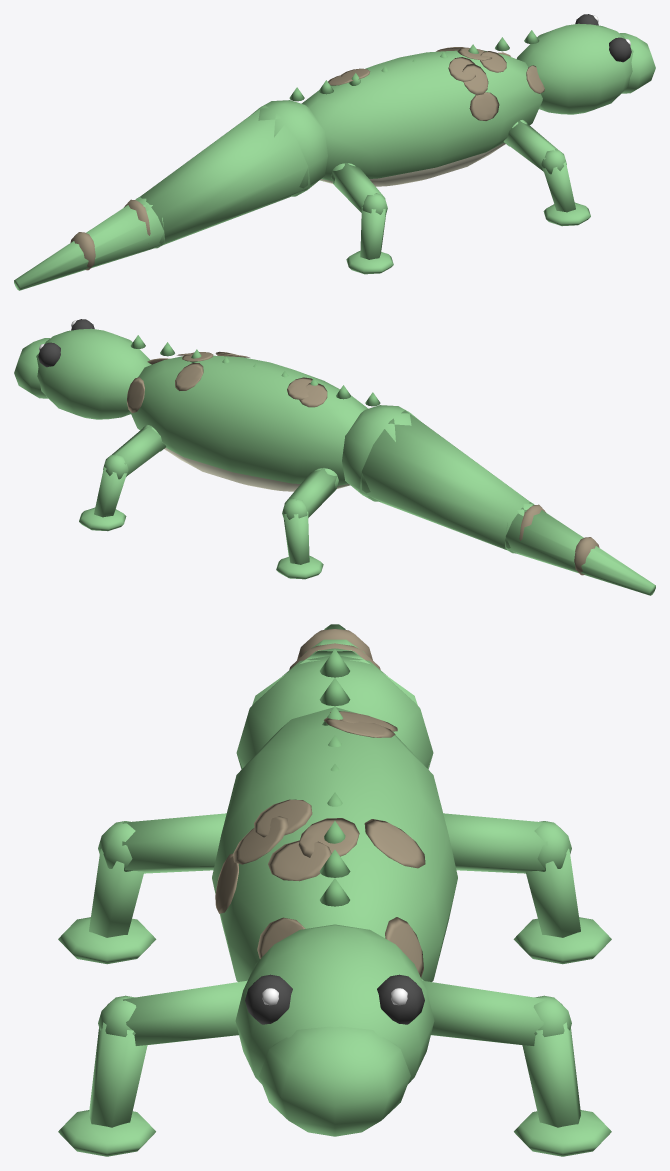
File: chinese-water-dragon.glb
The picture shows the model from 3 angles, top to bottom: view 1: azimuth 30°, elevation 25°; view 2: azimuth 150°, elevation 25°; view 3: azimuth 270°, elevation 25°; orthographic projection. The views are drawn at different scales.
Parts seen in each view (by area): view 1: cone, e.018, e.012, e.035, e.025; view 2: cone, e.018, e.012, e.040, e.030; view 3: cone, e.012, e.025, e.030, e.035, e.040, e.018.
Part boxes in pixels (x1=…): cone: x1=289, y1=30, x2=544, y2=186; e.018: x1=14, y1=100, x2=327, y2=290; e.012: x1=517, y1=14, x2=655, y2=114; e.035: x1=331, y1=163, x2=393, y2=274; e.025: x1=503, y1=120, x2=590, y2=226; cone: x1=127, y1=335, x2=380, y2=491; e.018: x1=342, y1=405, x2=655, y2=595; e.012: x1=14, y1=319, x2=151, y2=419; e.040: x1=276, y1=468, x2=338, y2=579; e.030: x1=79, y1=425, x2=166, y2=531; cone: x1=212, y1=649, x2=457, y2=981; e.012: x1=235, y1=924, x2=434, y2=1136; e.025: x1=58, y1=979, x2=248, y2=1156; e.030: x1=421, y1=979, x2=611, y2=1156; e.035: x1=58, y1=813, x2=226, y2=964; e.040: x1=443, y1=813, x2=611, y2=964; e.018: x1=236, y1=624, x2=433, y2=769.
Bounding box in the file's own units: 0.9533 × 0.211 × 0.36.
